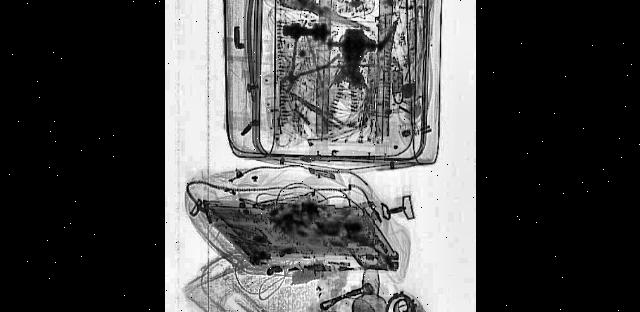Pliers: (273, 0, 338, 124), (277, 0, 370, 33)
